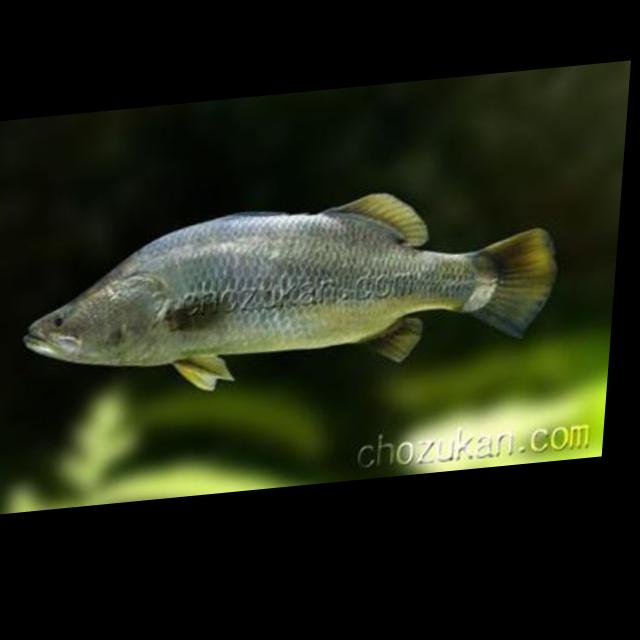Seabass: (18, 173, 566, 412)
